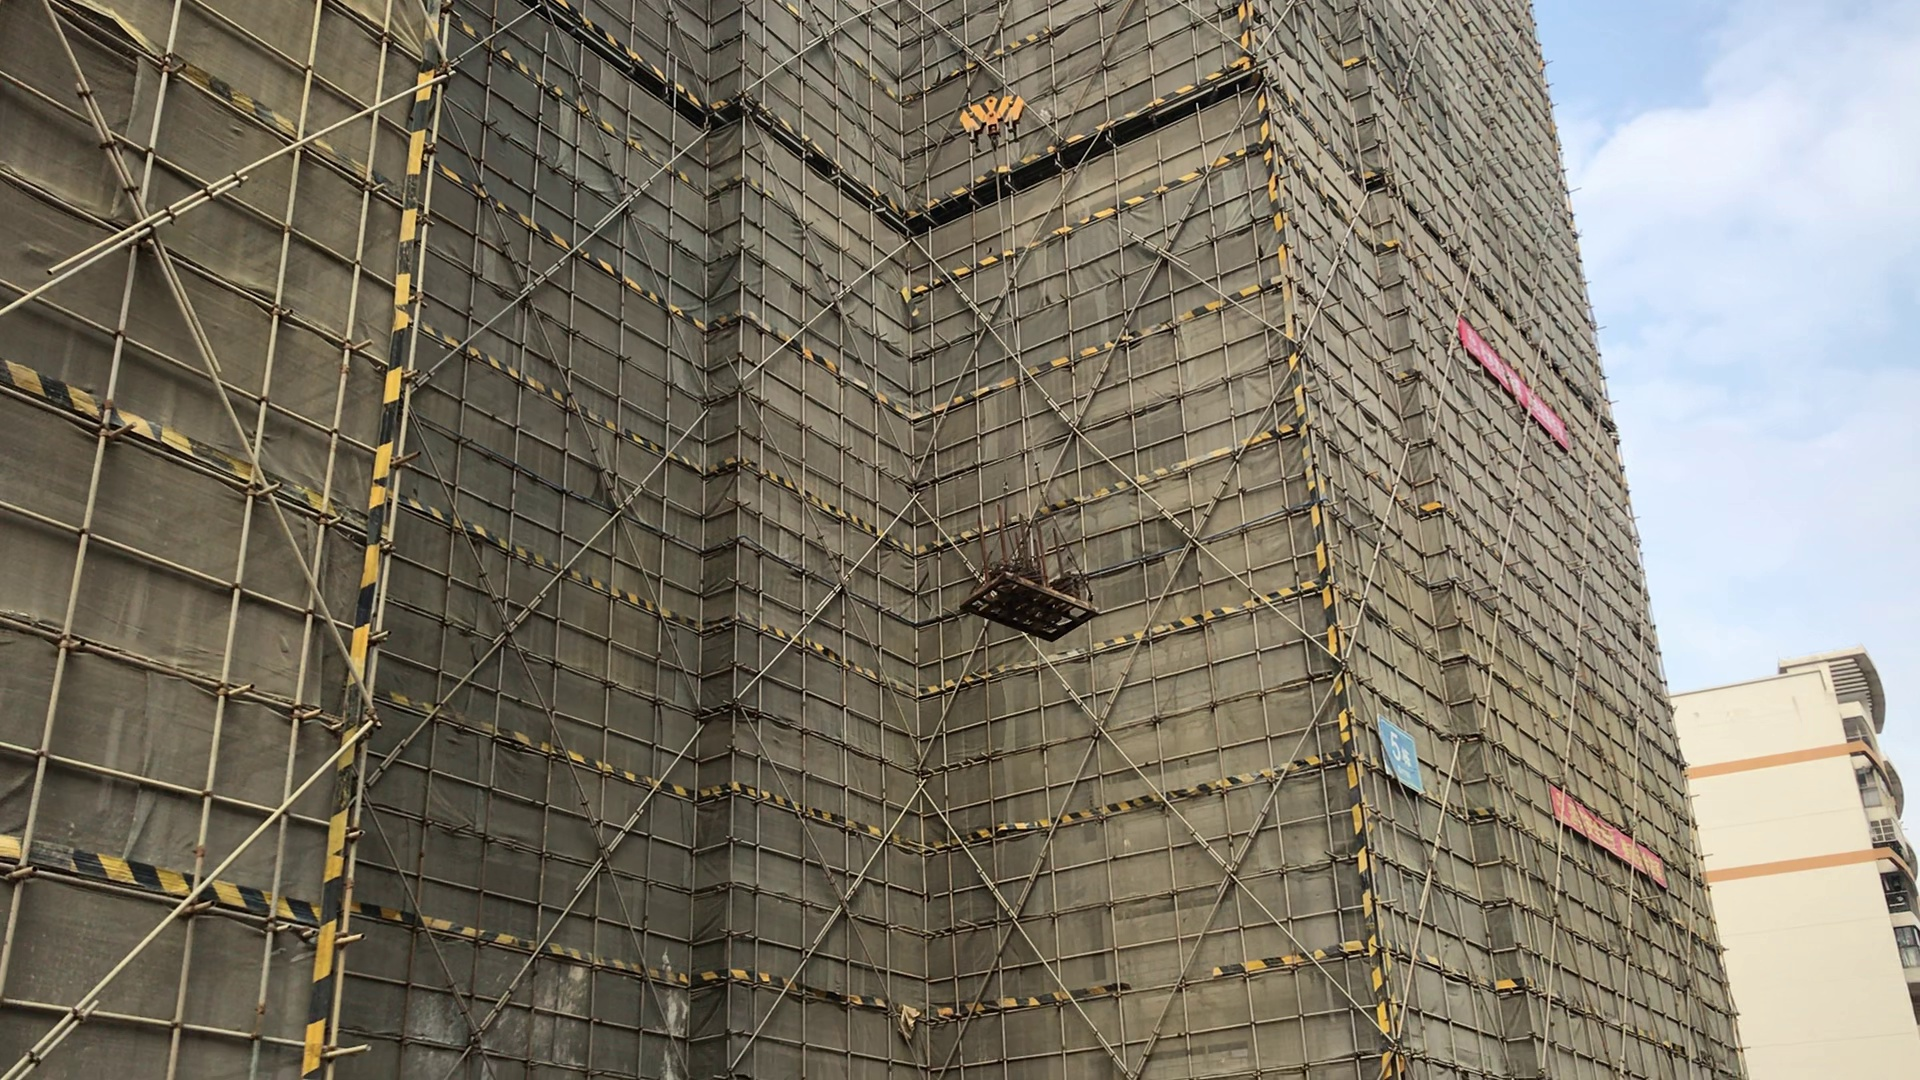hook: (956, 87, 1025, 152)
slogan: (1456, 320, 1571, 448), (1552, 781, 1669, 889)
